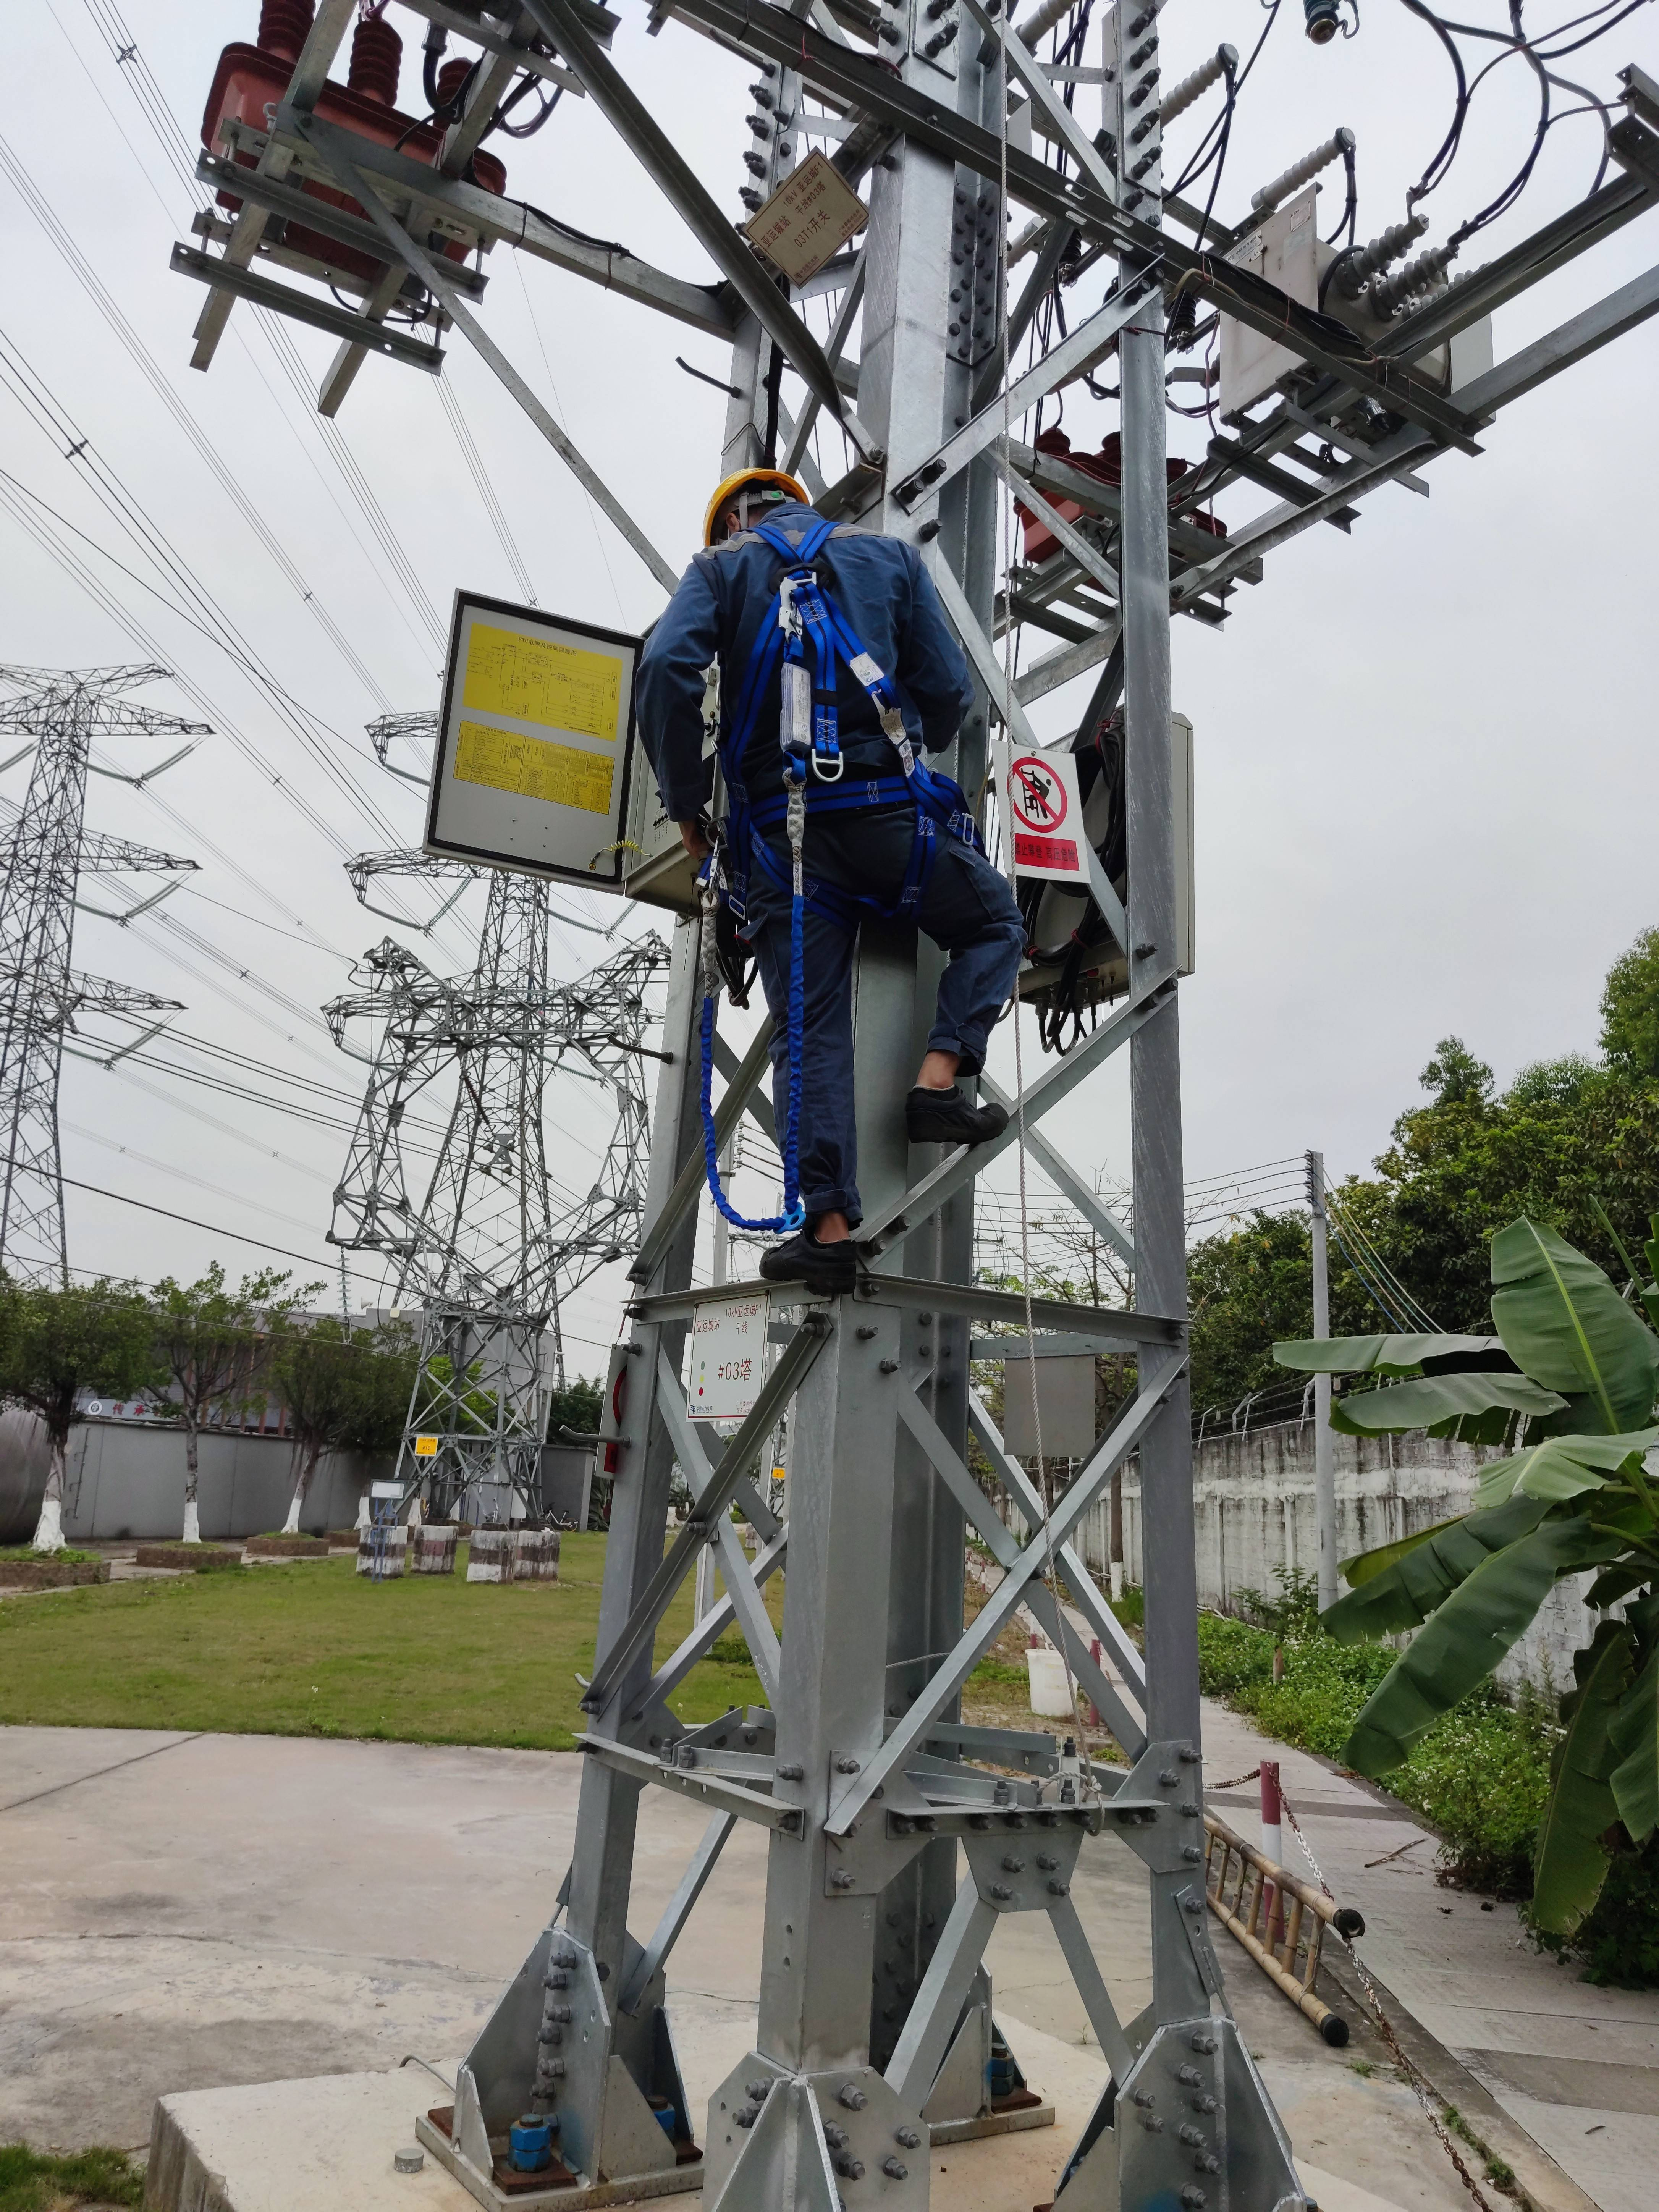downsuit: (735, 812, 1028, 1233)
upsuit: (634, 514, 985, 796)
